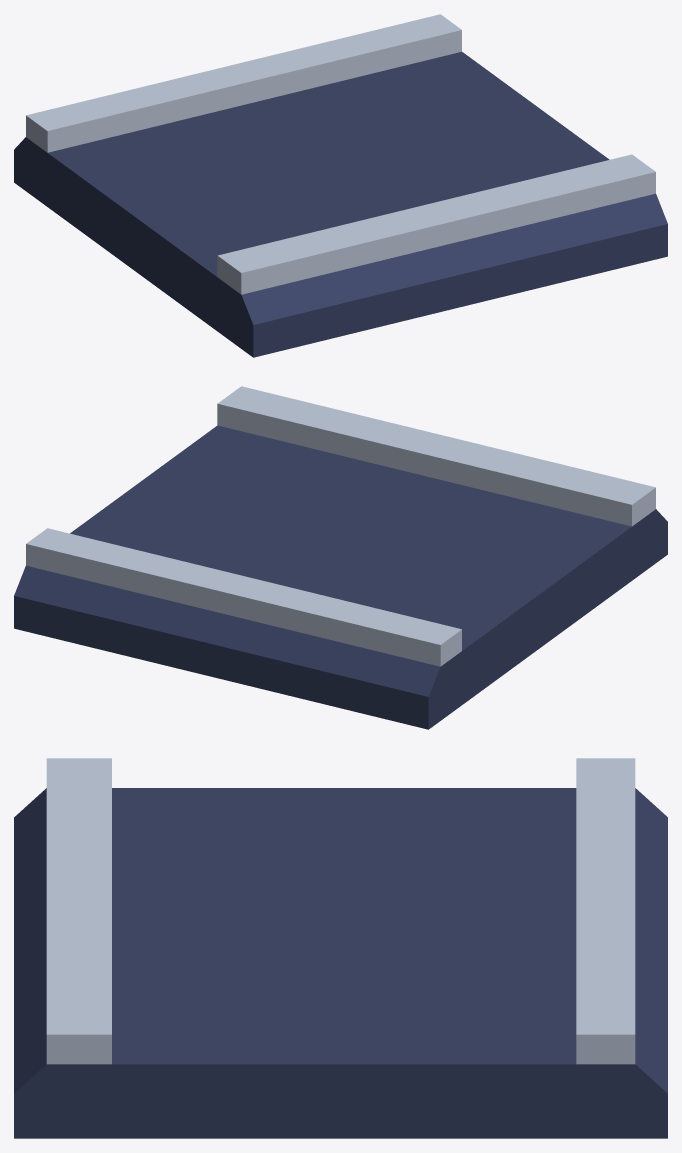
File: base_str_1x1.fbx
3 views of the same model, one above another, from view 1: azimuth 30°, elevation 25°; view 2: azimuth 150°, elevation 25°; view 3: azimuth 270°, elevation 25° (orthographic). The views are drawn at different scales.
Parts seen in each view (by area): view 1: base_str_1x1; view 2: base_str_1x1; view 3: base_str_1x1.
Boxes of the visible parts, x1,y1,x2,y2 form: base_str_1x1: (14, 14, 667, 357); base_str_1x1: (14, 386, 667, 729); base_str_1x1: (14, 758, 667, 1138).
Bounding box in the file's own units: 200 × 35 × 200.
